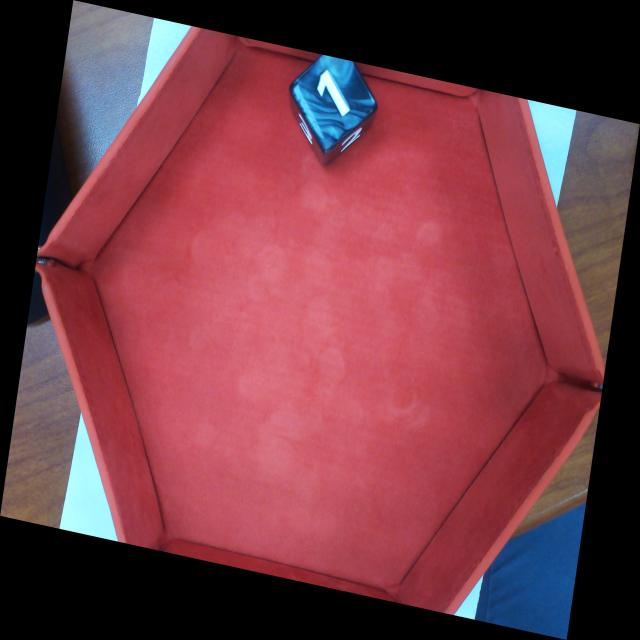dice: (288, 37, 380, 155)
